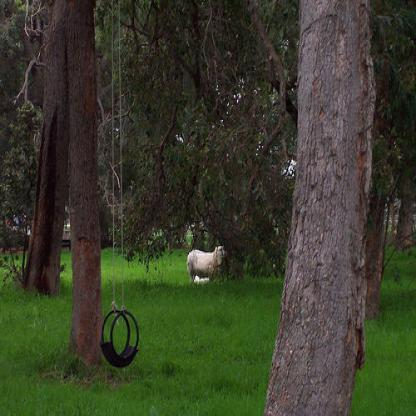sheep: (186, 245, 227, 288)
